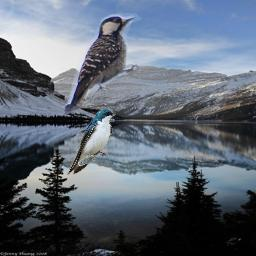Swallow: (67, 109, 116, 175)
Woodpecker: (58, 10, 142, 119)
